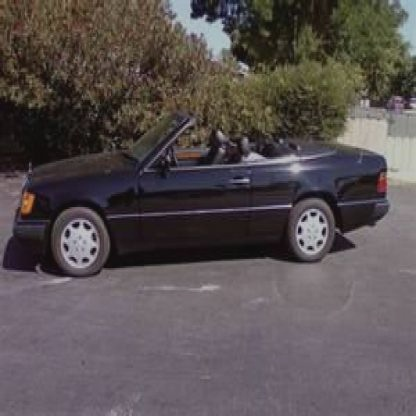Vehicle: (13, 111, 390, 277)
